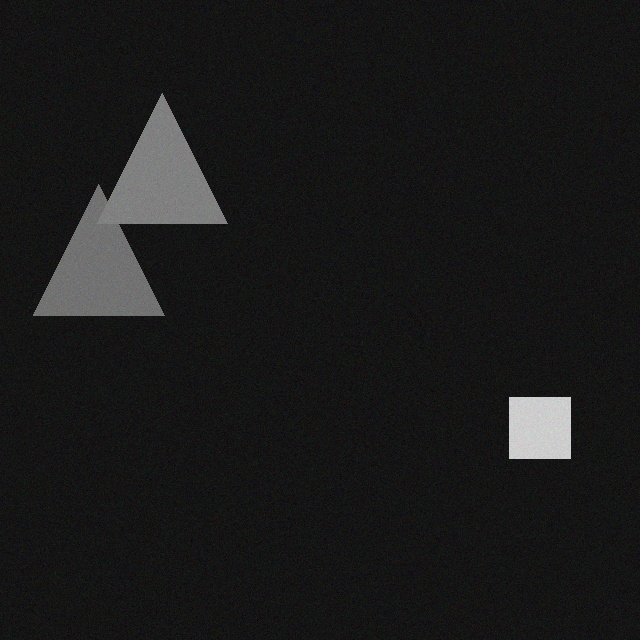square: (512, 383, 573, 444)
triangle: (36, 170, 167, 301), (100, 79, 230, 209)
